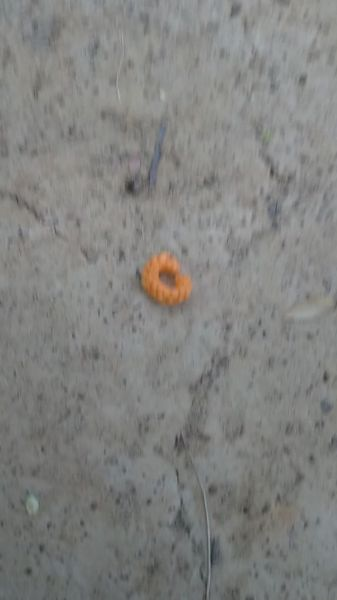eggs: (139, 247, 197, 311)
